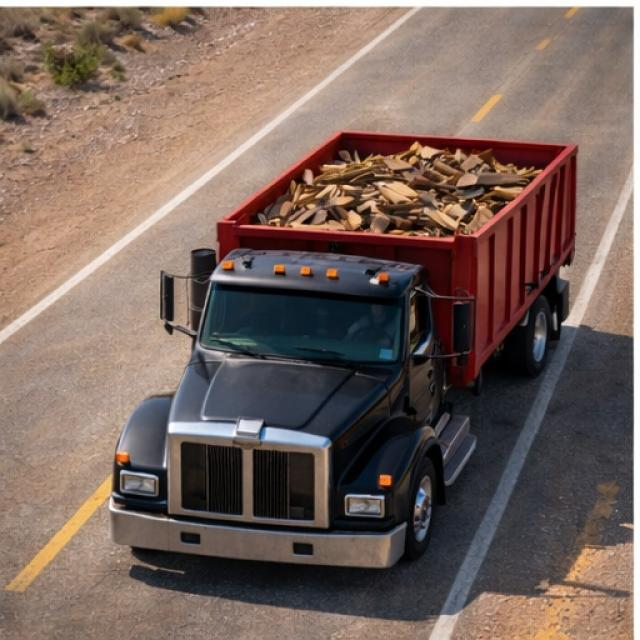trailer: (219, 127, 576, 233)
truck: (109, 110, 586, 560)
